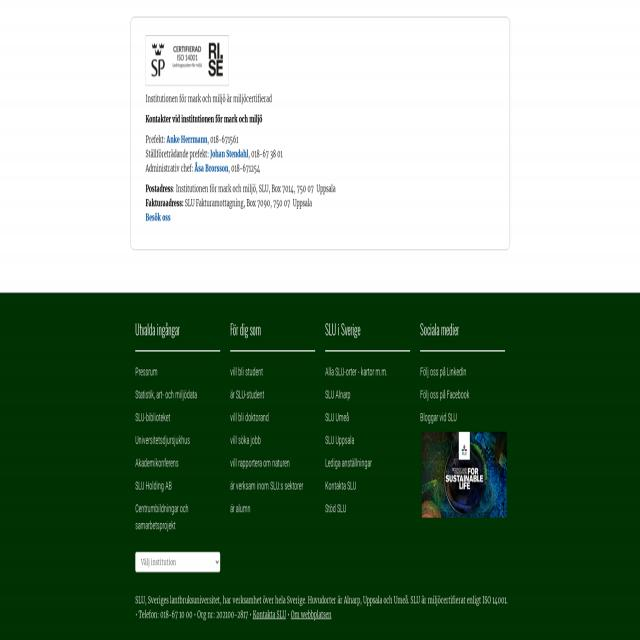button: (422, 432, 506, 518), (145, 35, 229, 86)
field: (135, 551, 220, 572)
